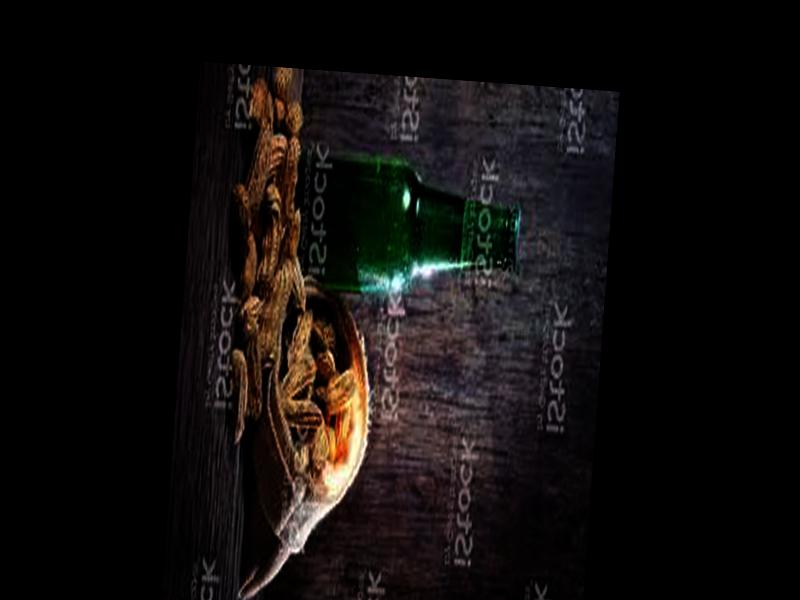Beer: (272, 153, 526, 308)
